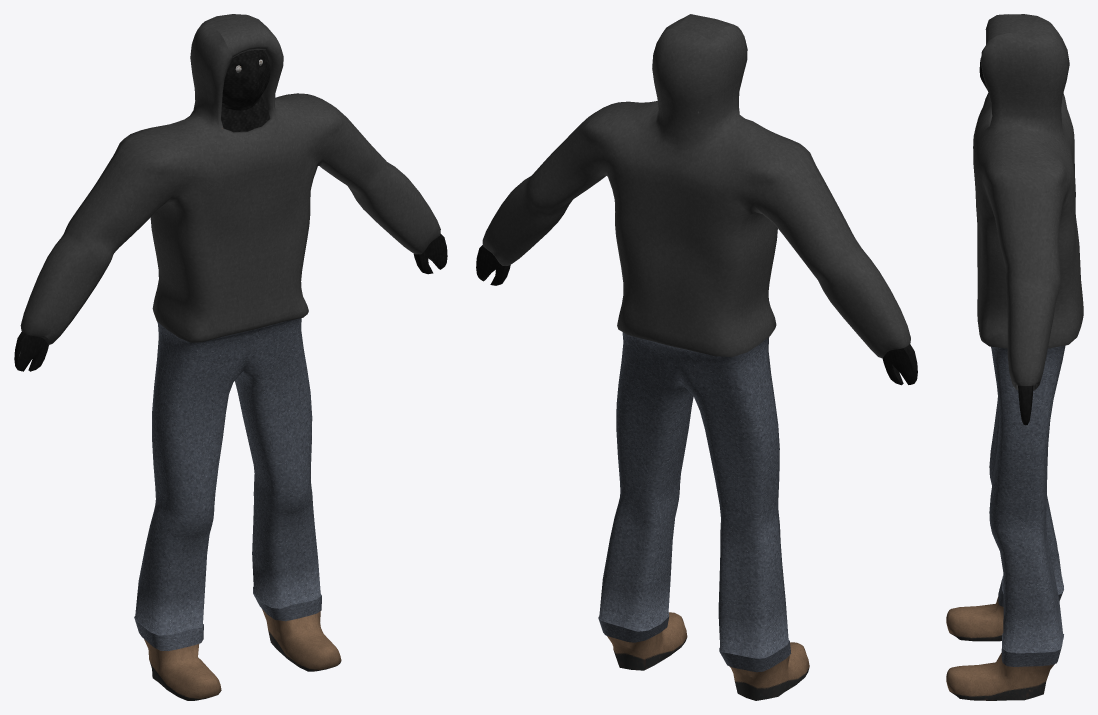
The model's file is Stalker.fbx.
3 renders of one model, left to right at view 1: azimuth 30°, elevation 25°; view 2: azimuth 150°, elevation 25°; view 3: azimuth 270°, elevation 25°, orthographic.
Parts seen in each view (by area): view 1: Stalker; view 2: Stalker; view 3: Stalker.
Boxes of the visible parts, x1,y1,x2,y2 form: Stalker: (14, 14, 447, 700); Stalker: (476, 14, 917, 700); Stalker: (946, 14, 1083, 700).
Bounding box in the file's own units: 134 × 190 × 37.1.
Materials: 1 (1 with a texture image).
